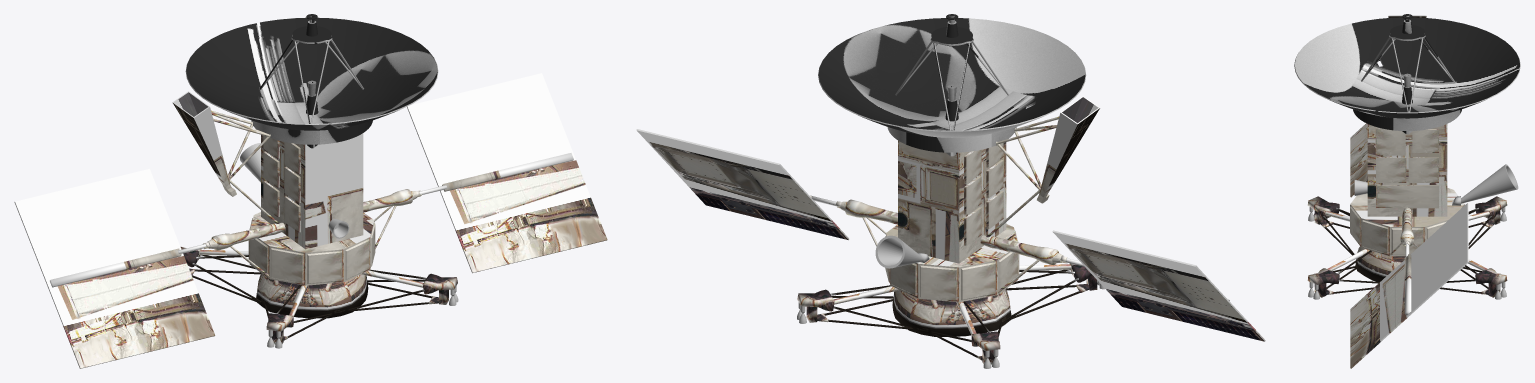
Rendered from Sat_Magellan.obj.
3 renders of one model, left to right at view 1: azimuth 30°, elevation 25°; view 2: azimuth 150°, elevation 25°; view 3: azimuth 270°, elevation 25°, orthographic. The views are drawn at different scales.
Visible parts, largest first — view 1: tex_01_001, dish_AO_01, aluminum_001, aluminum; view 2: tex_01_001, dish_AO_01, shiny_panel_001, aluminum; view 3: tex_01_001, dish_AO_01, aluminum, aluminum_001.
Part boxes in pixels (box(x1,y1,x2,y2)): tex_01_001: box(14, 73, 607, 368); dish_AO_01: box(185, 14, 438, 148); aluminum_001: box(267, 219, 458, 348); aluminum: box(240, 143, 260, 182); tex_01_001: box(636, 96, 1265, 364); dish_AO_01: box(818, 14, 1086, 156); shiny_panel_001: box(637, 130, 1264, 341); aluminum: box(875, 235, 922, 268); tex_01_001: box(1307, 15, 1507, 368); dish_AO_01: box(1294, 14, 1520, 134); aluminum: box(1461, 164, 1518, 203); aluminum_001: box(1308, 180, 1506, 299).
Size of the model in its own units: 2 by 1.02 by 0.8306.
5 materials, 3 textured.
